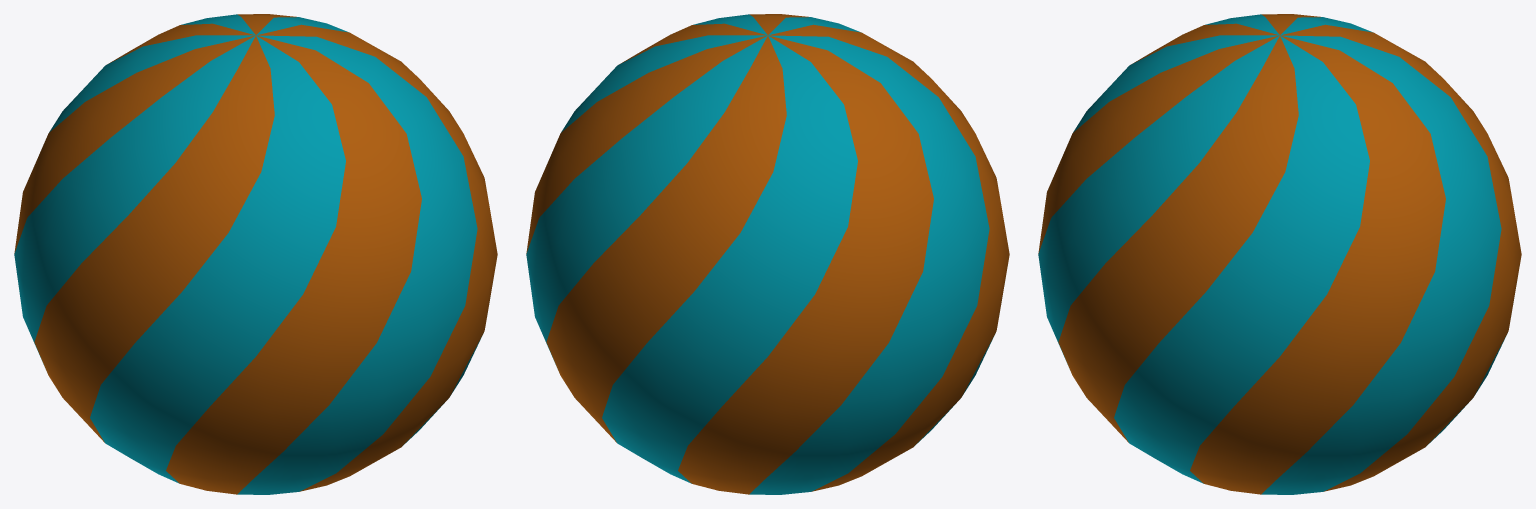
The model's file is BallTwistyCandy_2.glb.
3 views of the same model, side by side, from view 1: azimuth 30°, elevation 25°; view 2: azimuth 150°, elevation 25°; view 3: azimuth 270°, elevation 25° (orthographic).
Parts seen in each view (by area): view 1: geometry_0; view 2: geometry_0; view 3: geometry_0.
Boxes of the visible parts, x1,y1,x2,y2 form: geometry_0: (14, 14, 497, 494); geometry_0: (526, 14, 1009, 494); geometry_0: (1038, 14, 1521, 494).
Bounding box in the file's own units: 1 × 1 × 1.
Materials: 1 (1 with a texture image).
